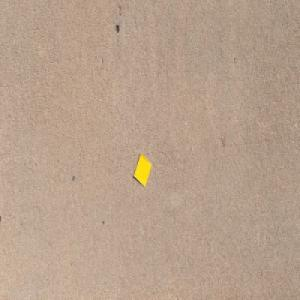PlasticPart: (133, 152, 152, 187)
